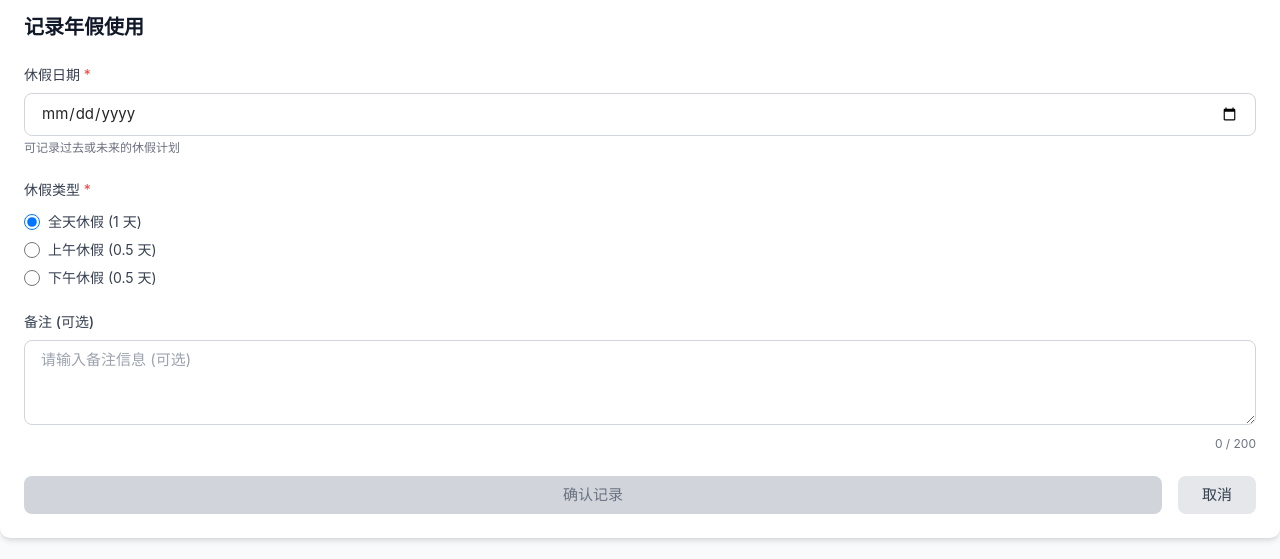
Test: LeaveUsageForm.vue › 字符计数 › 应该显示备注字符数
Type "测试" into the text box labelled "备注 (可选)".
click(640, 382); type("测试")  # box [24,340,1256,425]
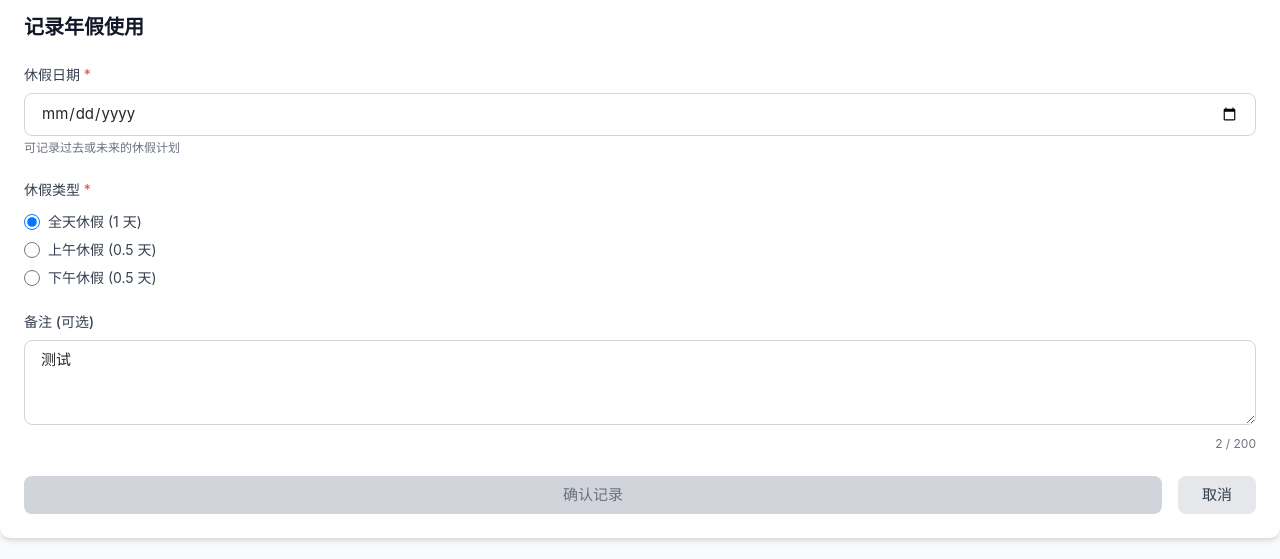
Check: the text "2 / 200" is shown, box [1215,436,1256,452]
